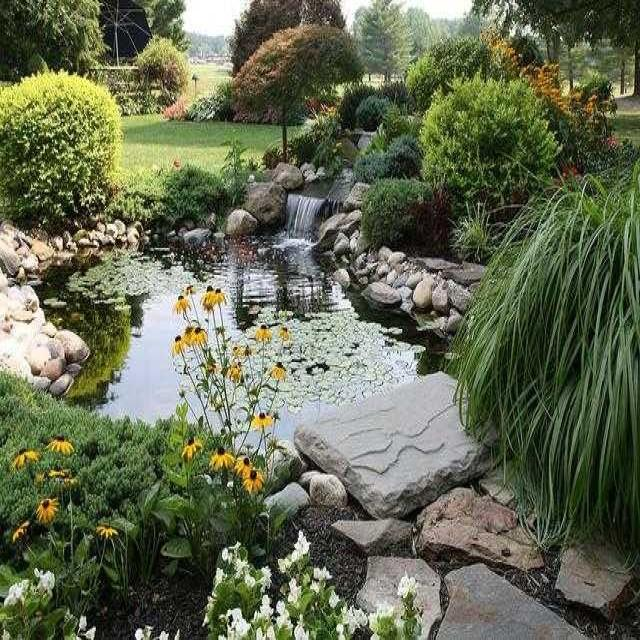Ponds: (1, 129, 512, 539)
